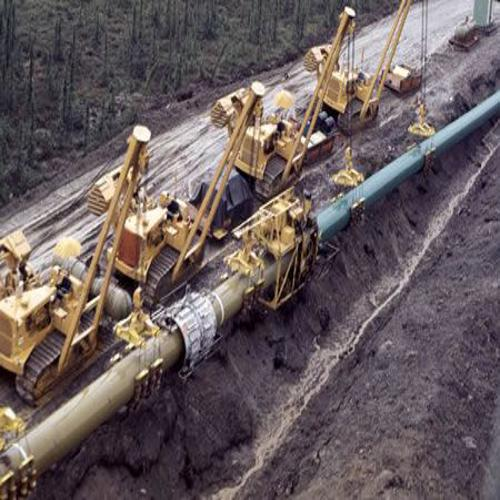con_eq: (1, 229, 107, 408), (99, 160, 209, 296), (216, 81, 313, 208), (309, 28, 392, 138)
